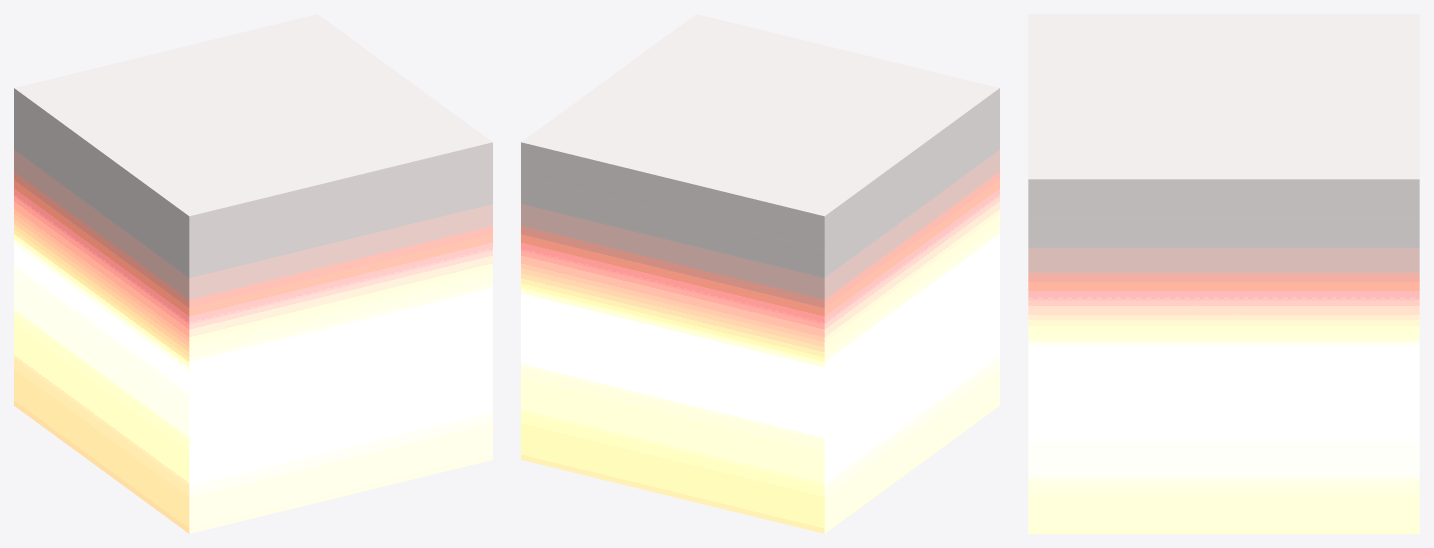
The model's file is MetaScreen_skytest3.glb.
The picture shows the model from 3 angles, left to right: view 1: azimuth 30°, elevation 25°; view 2: azimuth 150°, elevation 25°; view 3: azimuth 270°, elevation 25°; orthographic projection. The views are drawn at different scales.
Visible parts, largest first — view 1: Cube.003; view 2: Cube.003; view 3: Cube.003.
Part boxes in pixels (box(x1,y1,x2,y2)): Cube.003: box(14, 14, 492, 533); Cube.003: box(521, 14, 999, 533); Cube.003: box(1028, 14, 1419, 533).
Bounding box in the file's own units: 282 × 282 × 282.
